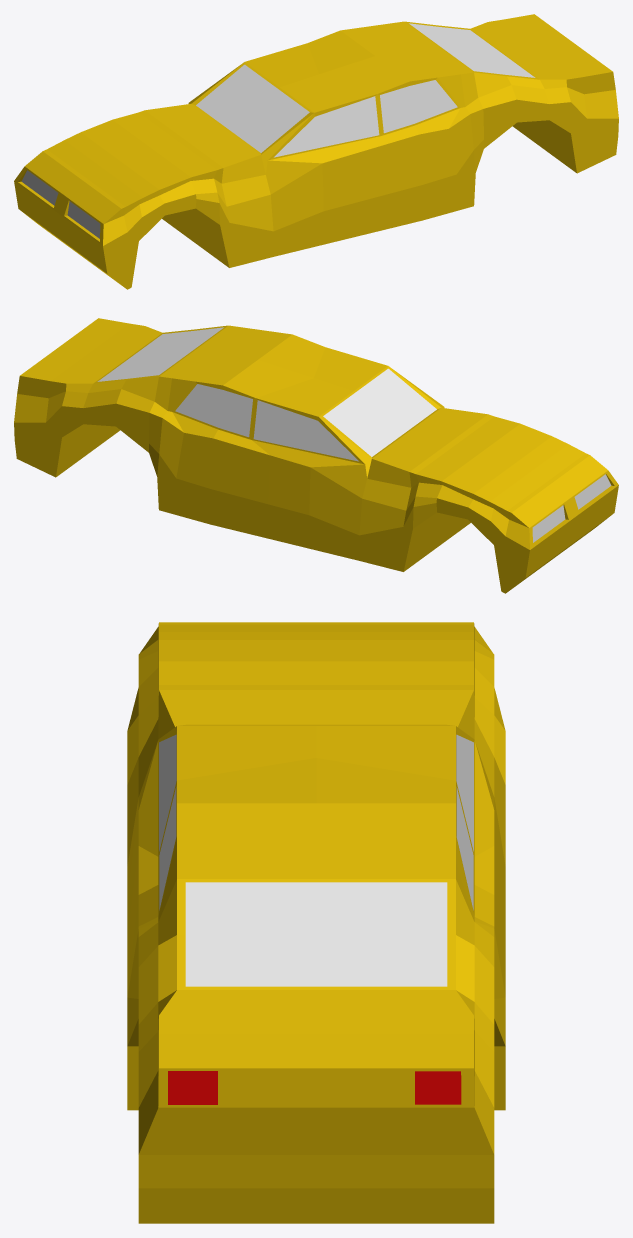
The model's file is SEDAN.fbx.
3 views of the same model, one above another, from view 1: azimuth 30°, elevation 25°; view 2: azimuth 150°, elevation 25°; view 3: azimuth 270°, elevation 25° (orthographic). The views are drawn at different scales.
Parts seen in each view (by area): view 1: pCube1; view 2: pCube1; view 3: pCube1.
Boxes of the visible parts, x1,y1,x2,y2 form: pCube1: [14, 14, 618, 289]; pCube1: [14, 318, 618, 593]; pCube1: [127, 622, 505, 1223].
Size of the model in its own units: 22.85 by 5.5 by 7.23.
